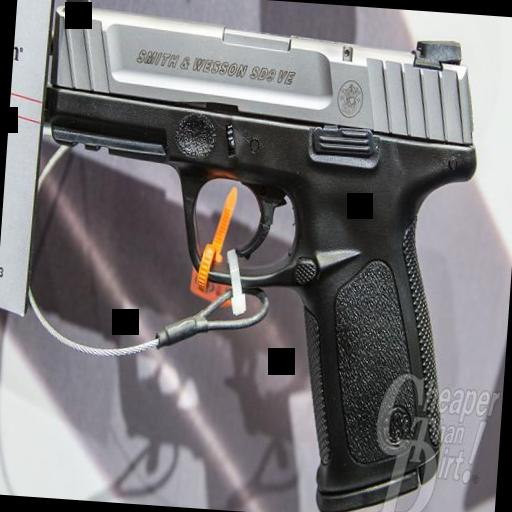Handgun: (17, 0, 485, 512)
